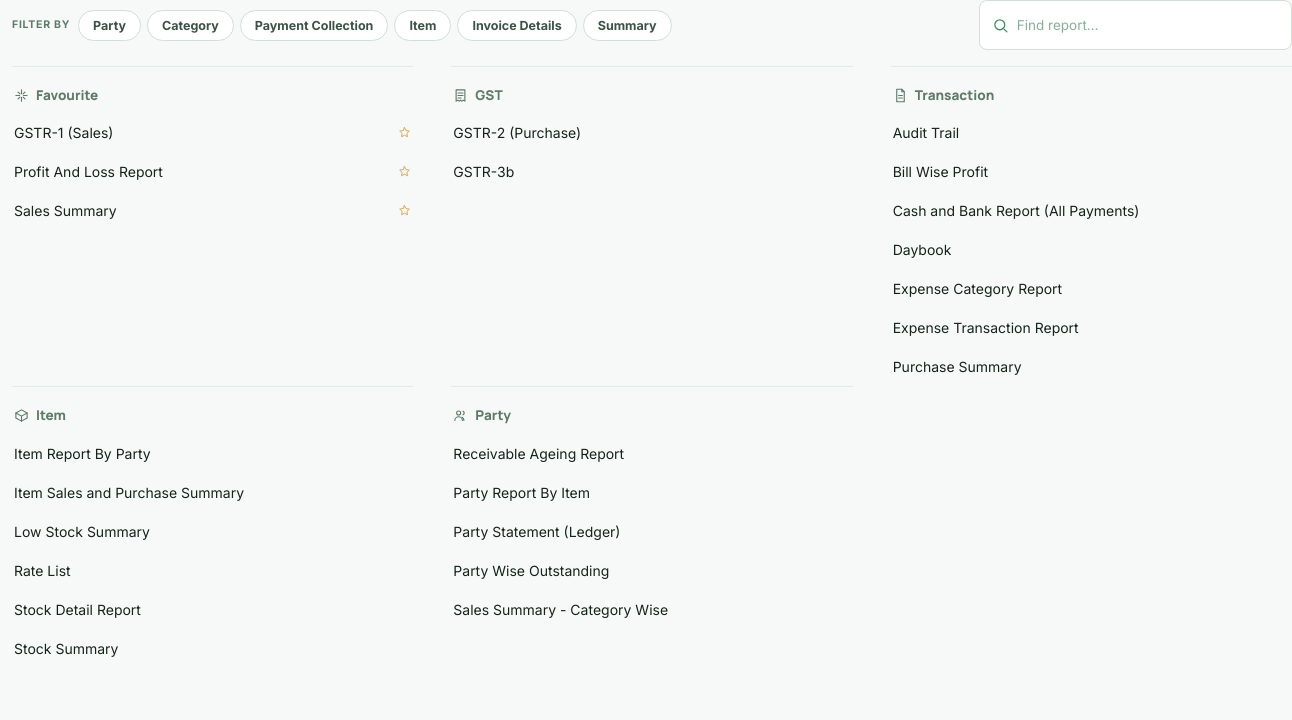
Test: ReportsPage › searches names and descriptions and shows an empty column
This screenshot has width=1292, height=720.
Type "daybook" into the field labelled "Find report".
click(1148, 25); type("daybook")  # box [1017, 9, 1279, 41]
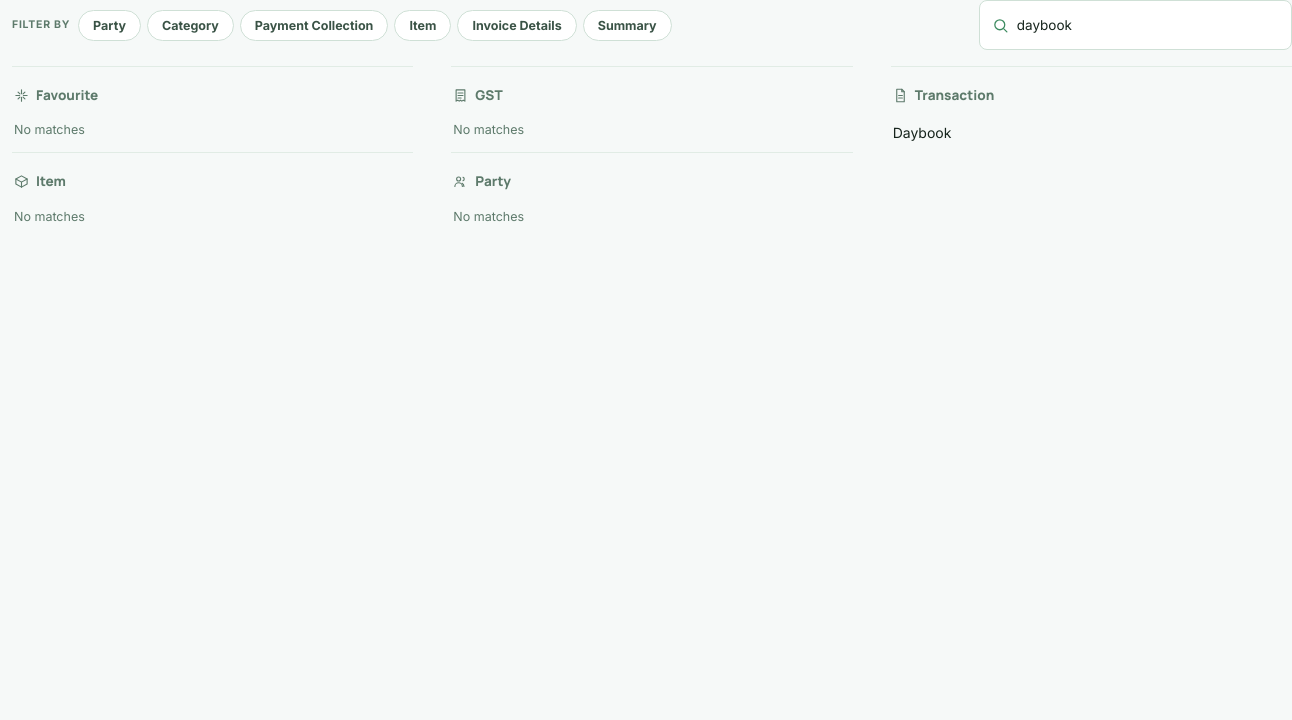
expect the link "Daybook" is shown: met, box [893, 124, 952, 141]
expect the link "GSTR-1 (Sales)" is gone: met
expect the text "No matches" below "Favourite" is shown: met, box [14, 122, 85, 137]
Replace the text in the field named "Find report" with "slab-wise" at (1148, 25), box [1017, 9, 1279, 41]
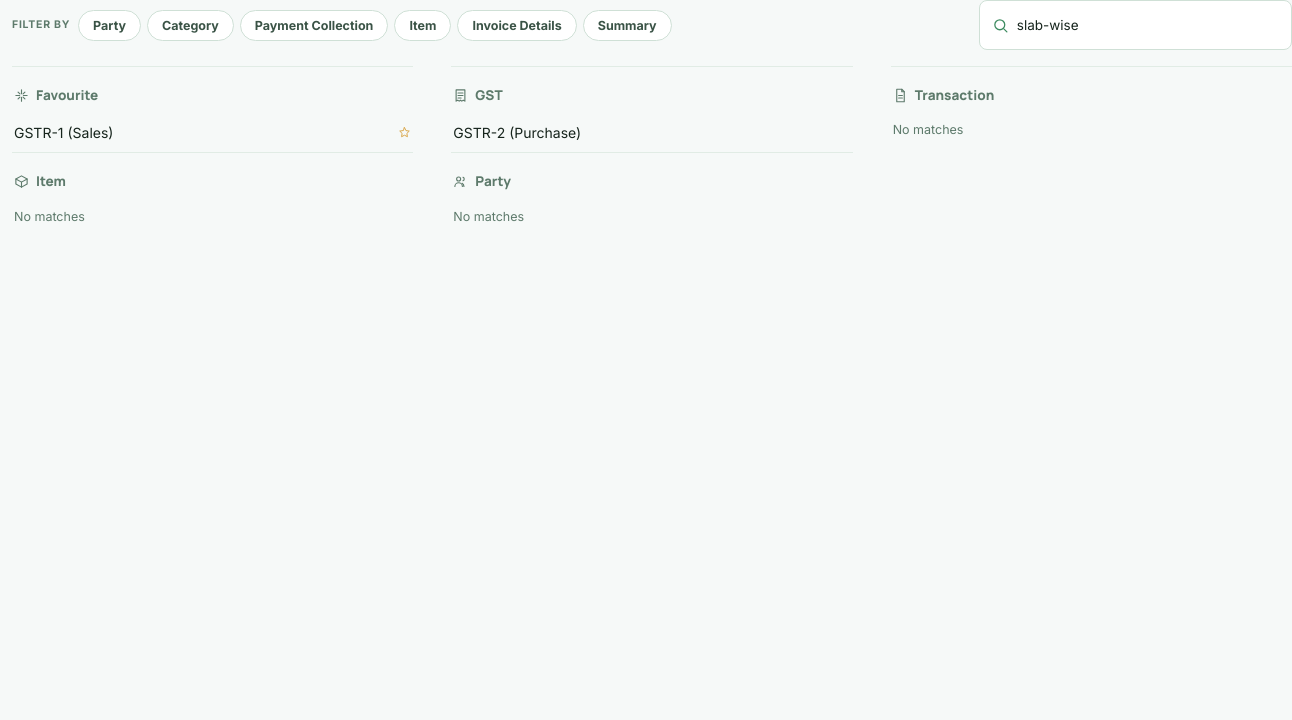
expect the link "GSTR-1 (Sales)" is shown: met, box [14, 124, 411, 141]
expect the link "GSTR-2 (Purchase)" is shown: met, box [453, 124, 581, 141]
expect the link "Daybook" is gone: met
Replace the text in the field named "Find report" with "zzzz" at (1148, 25), box [1017, 9, 1279, 41]
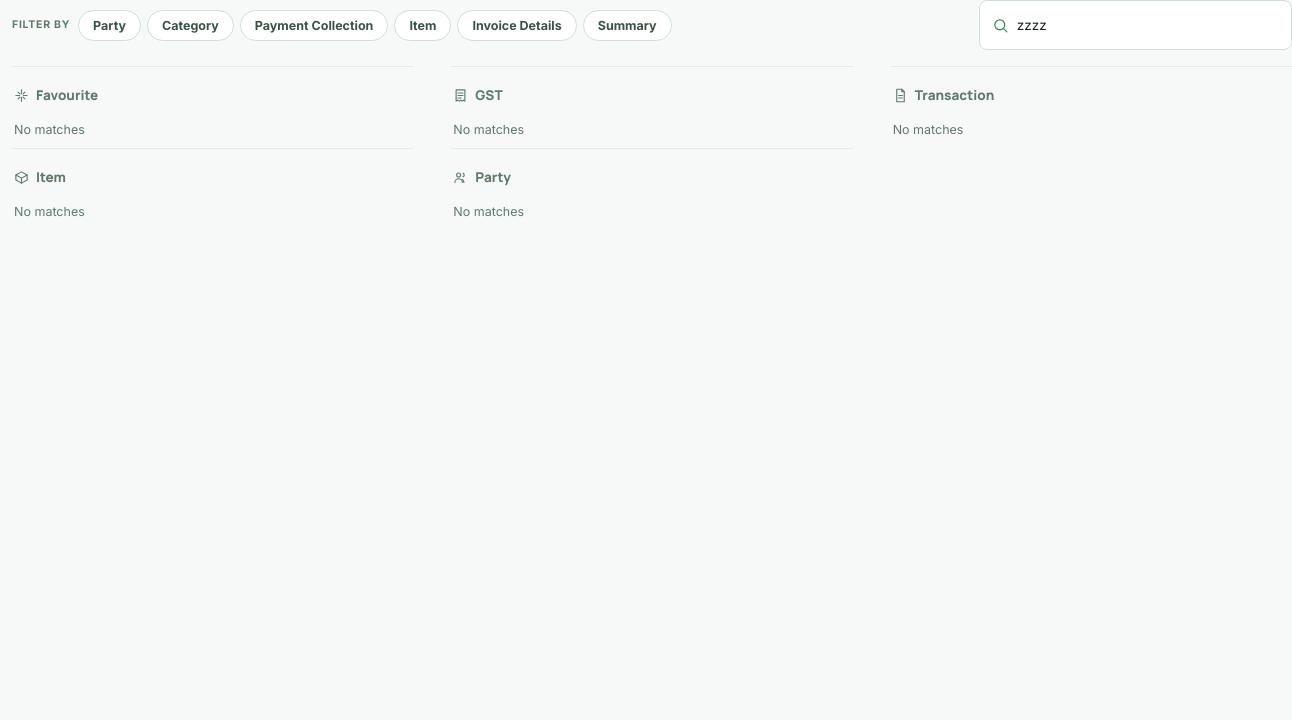
expect the link "Daybook" is not shown: met
expect the text "No matches" is shown 5 times: met, box [14, 122, 85, 137]; [453, 122, 524, 137]; [893, 122, 964, 137]; [14, 204, 85, 219]; [453, 204, 524, 219]
